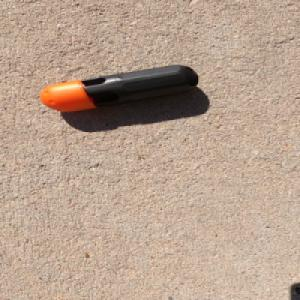PlasticPart: (41, 63, 202, 112)
